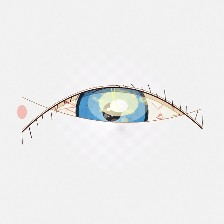corneal_ulcer: (86, 77, 151, 129)
